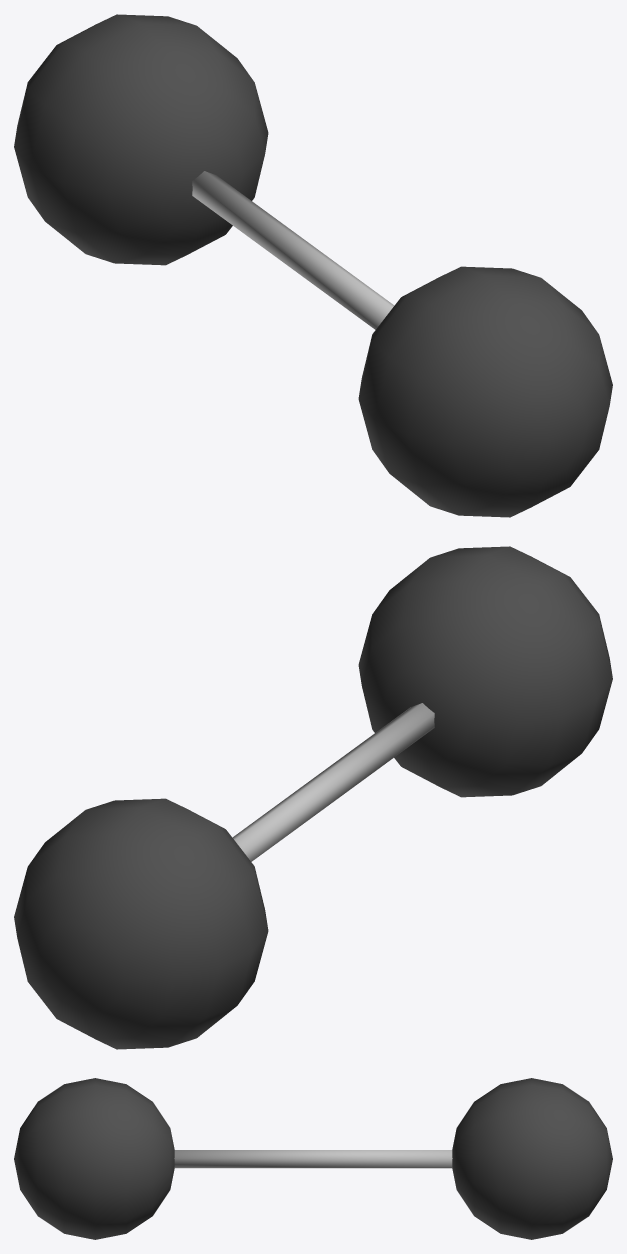
Rendered from peso.fbx.
3 renders of one model, top to bottom at view 1: azimuth 30°, elevation 25°; view 2: azimuth 150°, elevation 25°; view 3: azimuth 270°, elevation 25°, orthographic. The views are drawn at different scales.
Parts seen in each view (by area): view 1: Sphere.003; view 2: Sphere.003; view 3: Sphere.003.
Boxes of the visible parts, bbox=[...] form: Sphere.003: bbox=[14, 14, 612, 517]; Sphere.003: bbox=[14, 546, 612, 1049]; Sphere.003: bbox=[14, 1078, 612, 1239].
Bounding box in the file's own units: 200 × 200 × 737.
